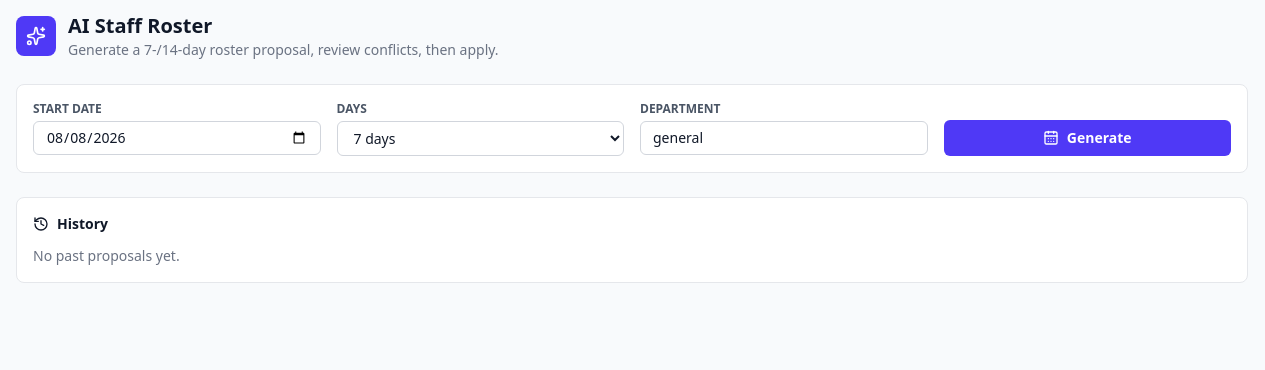
Test: AI Staff Roster dashboard page › renders the error banner with the API envelope error message when /ai/roster/propose returns success:false
The image size is (1265, 370).
Click the button "Generate" at {"x": 1087, "y": 138}, box [944,120,1231,156]
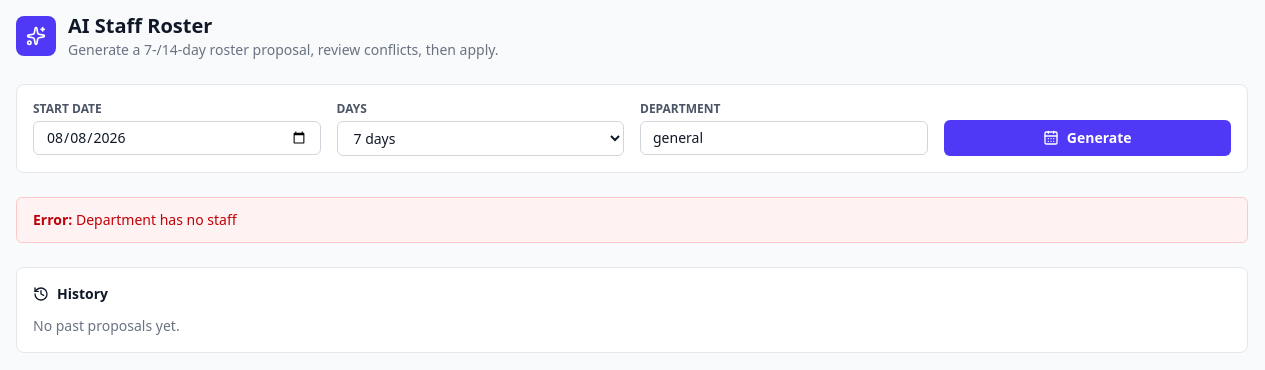
expect the text "Error: Department has no staff" is shown: met, box [16,197,1248,243]
